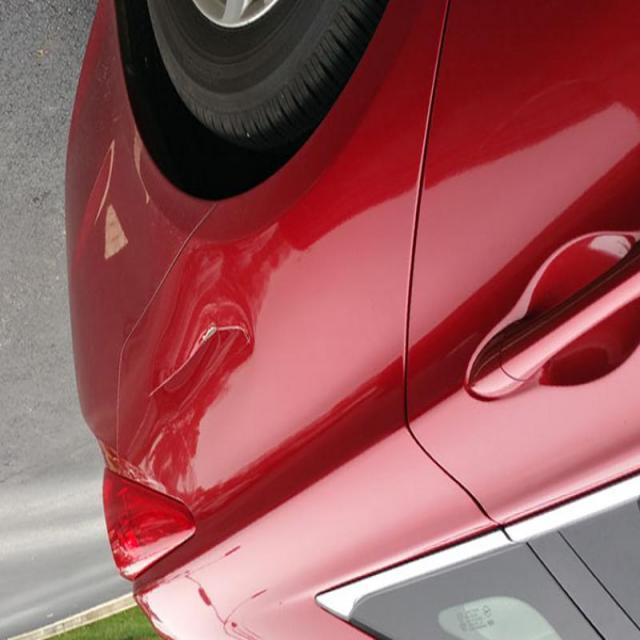dent: (115, 299, 268, 416)
